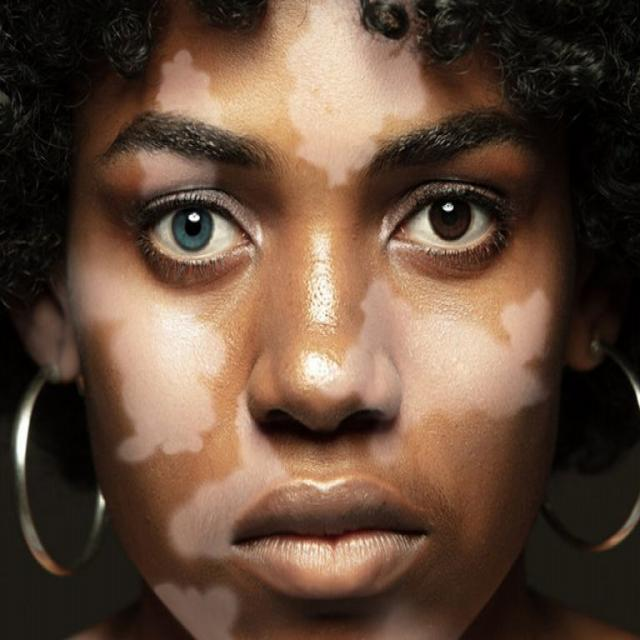vitiligo: (88, 42, 564, 640)
